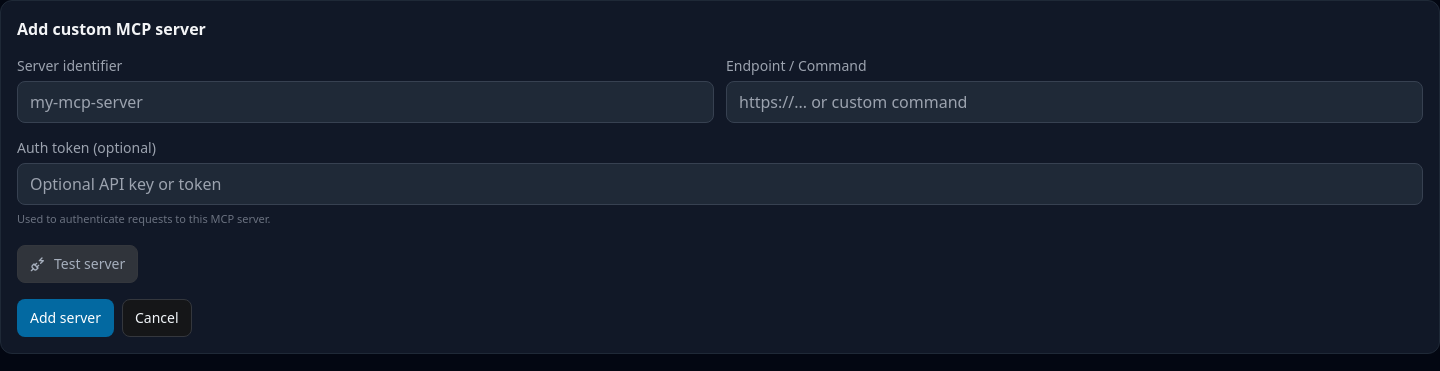
it: CustomMcpForm › offers a server test that unlocks once an endpoint is entered
The image size is (1440, 371).
Check: the button "Test server" is disabled, box [17,245,138,283]
In the field with placeholder "my-mcp-server": x=366, y=102 [17,81,714,123], type "my-mcp"
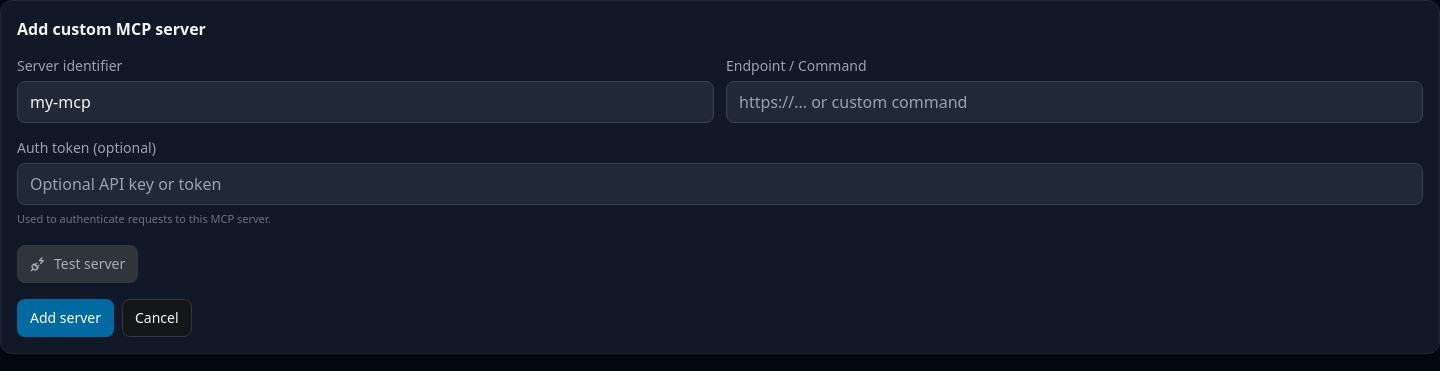
In the field with placeholder "https://... or custom command": x=1074, y=102 [726,81,1423,123], type "https://mcp.example.com/mcp"
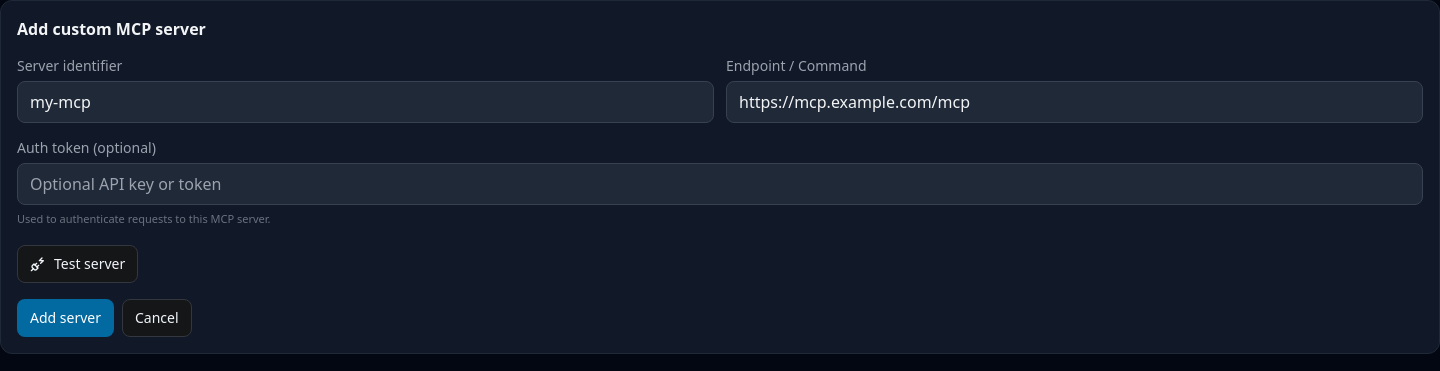
Check: the button "Test server" is enabled, box [17,245,138,283]
